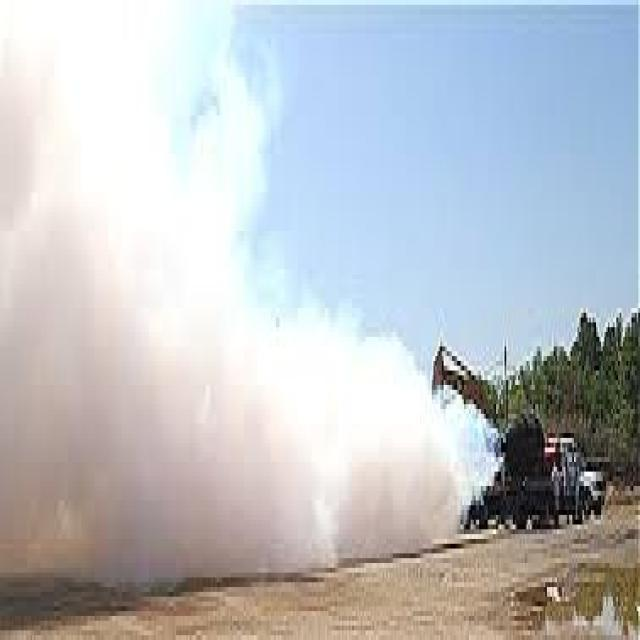Smoke: (0, 0, 506, 594)
